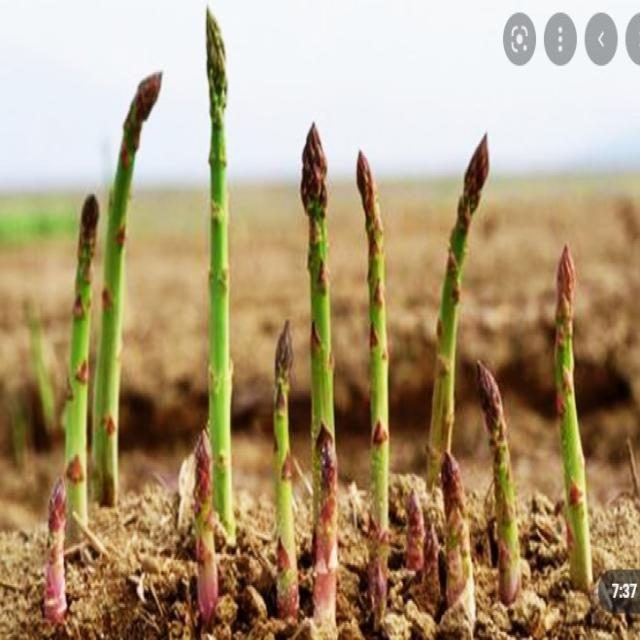aspargus: (92, 66, 167, 500), (206, 6, 234, 532), (557, 248, 595, 601), (357, 152, 391, 545), (63, 189, 101, 509), (477, 361, 525, 600), (271, 312, 303, 614), (41, 475, 70, 611)
